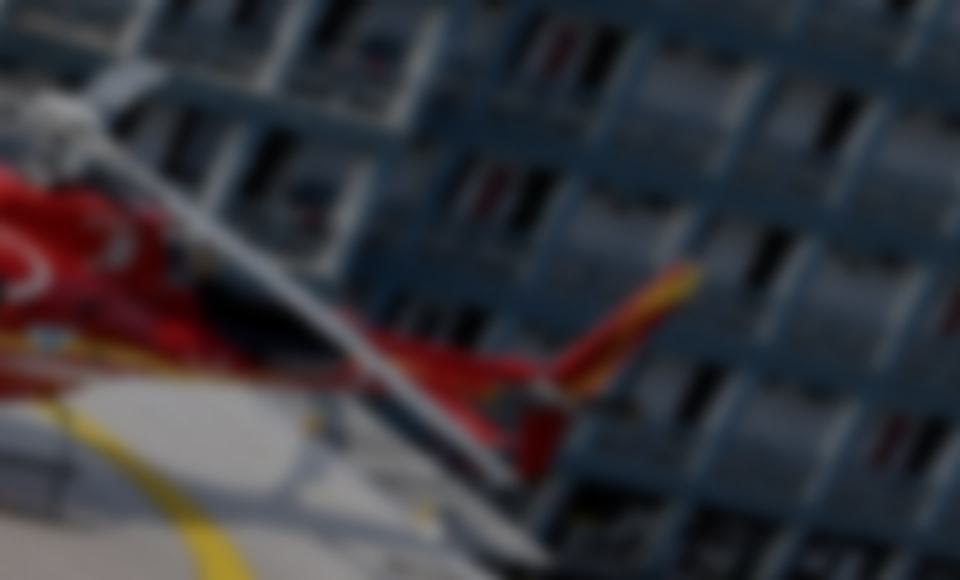Apron: (3, 376, 251, 580)
